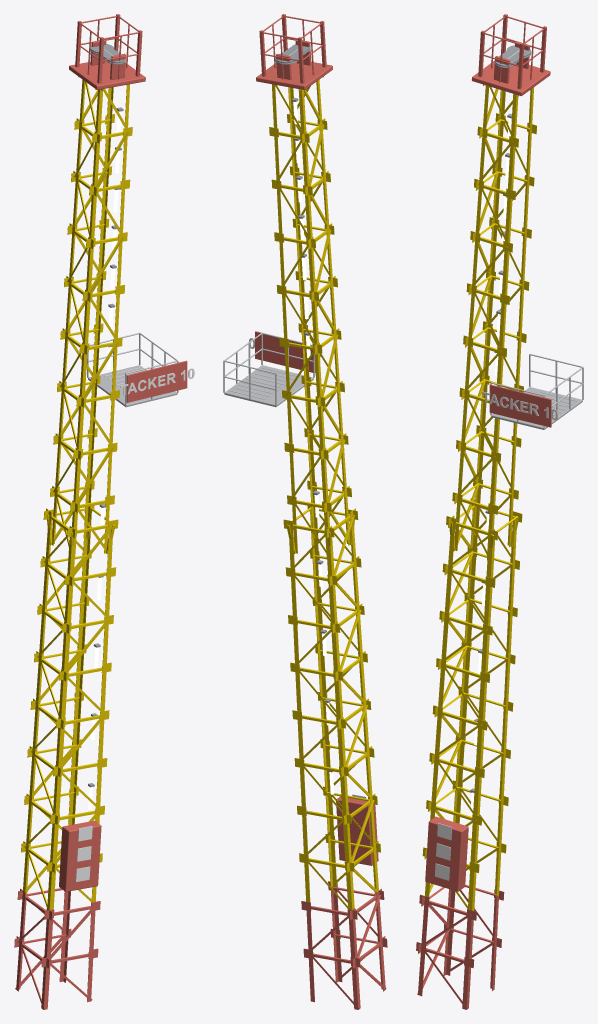
Rendered from sk575_mastil.glb.
The picture shows the model from 3 angles, left to right: view 1: azimuth 30°, elevation 25°; view 2: azimuth 150°, elevation 25°; view 3: azimuth 330°, elevation 25°; orthographic projection. The views are drawn at different scales.
Parts seen in each view (by area): view 1: sk575_mastil_amarillo, sk575_mastil_rojo, sk575_enganche_rojo, sk575_mastil_luz, sk575_enganche_grating, sk575_enganche_acero, sk575_mastil_blanco, sk575_mastil_acero_oscuro, sk575_enganche_blanco; view 2: sk575_mastil_amarillo, sk575_mastil_rojo, sk575_enganche_grating, sk575_enganche_acero, sk575_enganche_rojo, sk575_mastil_luz, sk575_mastil_acero_oscuro; view 3: sk575_mastil_amarillo, sk575_mastil_rojo, sk575_enganche_rojo, sk575_enganche_acero, sk575_enganche_grating, sk575_mastil_luz, sk575_mastil_blanco, sk575_mastil_acero_oscuro, sk575_enganche_blanco.
Boxes of the visible parts, left/top/right/bottom form: sk575_mastil_amarillo: left=21, top=76, right=132, bottom=909; sk575_mastil_rojo: left=14, top=14, right=145, bottom=1009; sk575_enganche_rojo: left=126, top=360, right=187, bottom=402; sk575_mastil_luz: left=88, top=111, right=121, bottom=809; sk575_enganche_grating: left=88, top=365, right=177, bottom=407; sk575_enganche_acero: left=87, top=332, right=178, bottom=405; sk575_mastil_blanco: left=75, top=826, right=92, bottom=881; sk575_mastil_acero_oscuro: left=88, top=44, right=125, bottom=787; sk575_enganche_blanco: left=120, top=368, right=194, bottom=395; sk575_mastil_amarillo: left=269, top=76, right=380, bottom=909; sk575_mastil_rojo: left=256, top=14, right=387, bottom=1009; sk575_enganche_grating: left=224, top=365, right=313, bottom=407; sk575_enganche_acero: left=223, top=332, right=314, bottom=405; sk575_enganche_rojo: left=255, top=331, right=315, bottom=372; sk575_mastil_luz: left=293, top=101, right=334, bottom=794; sk575_mastil_acero_oscuro: left=275, top=44, right=332, bottom=772; sk575_mastil_amarillo: left=422, top=84, right=536, bottom=910; sk575_mastil_rojo: left=416, top=14, right=550, bottom=1009; sk575_enganche_rojo: left=489, top=384, right=551, bottom=427; sk575_enganche_acero: left=490, top=354, right=583, bottom=428; sk575_enganche_grating: left=491, top=387, right=582, bottom=429; sk575_mastil_luz: left=470, top=118, right=511, bottom=814; sk575_mastil_blanco: left=434, top=823, right=452, bottom=880; sk575_mastil_acero_oscuro: left=470, top=45, right=531, bottom=792; sk575_enganche_blanco: left=482, top=391, right=557, bottom=420.
Size of the model in its own units: 5.32 by 33.44 by 2.59.
